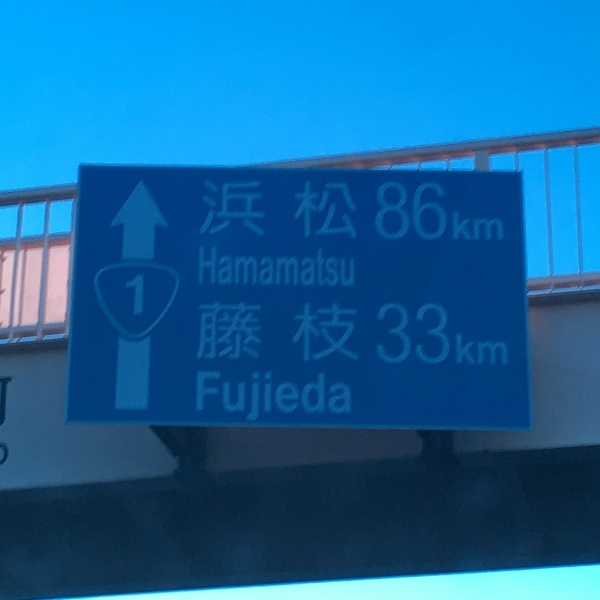text: (385, 300, 400, 370), (401, 300, 416, 370), (417, 300, 432, 370), (433, 300, 448, 370), (449, 300, 464, 370), (465, 300, 480, 370), (481, 300, 496, 370), (209, 176, 224, 245), (225, 176, 240, 245), (241, 176, 256, 245), (257, 176, 272, 245), (273, 176, 288, 245), (289, 176, 304, 245), (305, 176, 320, 245), (321, 176, 336, 245), (337, 176, 352, 245), (209, 298, 224, 367), (225, 298, 240, 367), (241, 298, 256, 367), (257, 298, 272, 367), (273, 298, 288, 367), (289, 298, 304, 367), (305, 298, 320, 367), (321, 298, 336, 367), (337, 298, 352, 367), (385, 181, 400, 244), (401, 181, 416, 244), (417, 181, 432, 244), (433, 181, 448, 244), (449, 181, 464, 244), (465, 181, 480, 244), (481, 181, 496, 244), (337, 367, 353, 425), (497, 300, 510, 370), (209, 367, 224, 425), (225, 367, 240, 425), (241, 367, 256, 425), (257, 367, 272, 425), (273, 367, 288, 425), (289, 367, 304, 425), (305, 367, 320, 425), (321, 367, 336, 425), (209, 245, 224, 293), (225, 245, 240, 293), (241, 245, 256, 293), (257, 245, 272, 293), (273, 245, 288, 293), (289, 245, 304, 293), (305, 245, 320, 293), (321, 245, 336, 293), (337, 245, 352, 293), (196, 367, 208, 425), (129, 273, 144, 319), (199, 298, 208, 367), (497, 181, 506, 244), (353, 176, 361, 245), (353, 298, 361, 367), (377, 300, 384, 370), (199, 245, 208, 293), (202, 176, 208, 245), (378, 181, 384, 244), (353, 245, 358, 293), (127, 273, 128, 319), (145, 273, 146, 319)
